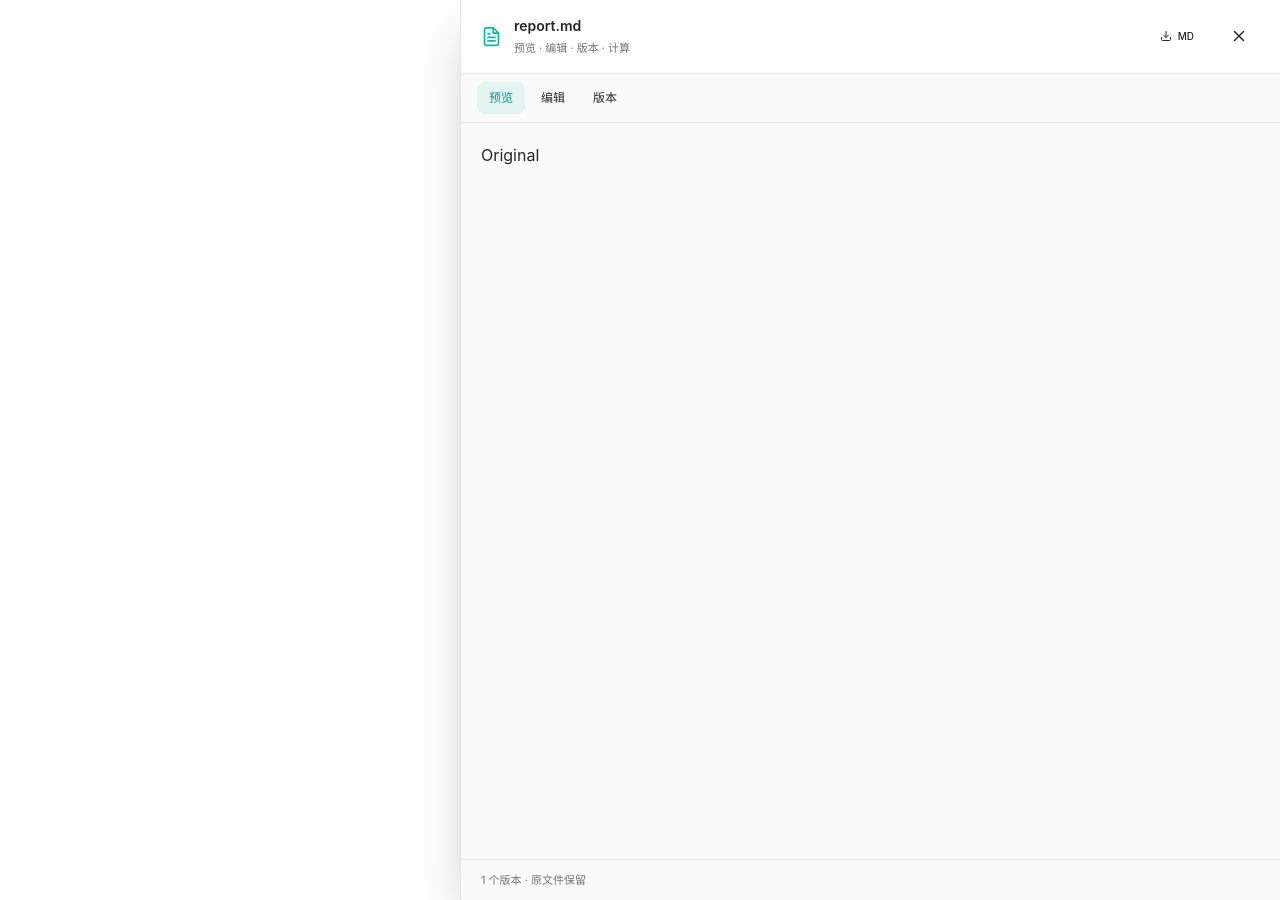
Test: document workbench UI › opens from attachment events, edits and saves a new version, then previews its body
Expected: the heading "Original" is shown, [481,144,539,164]
Click the button "编辑": click(553, 98) [529,82,577,114]
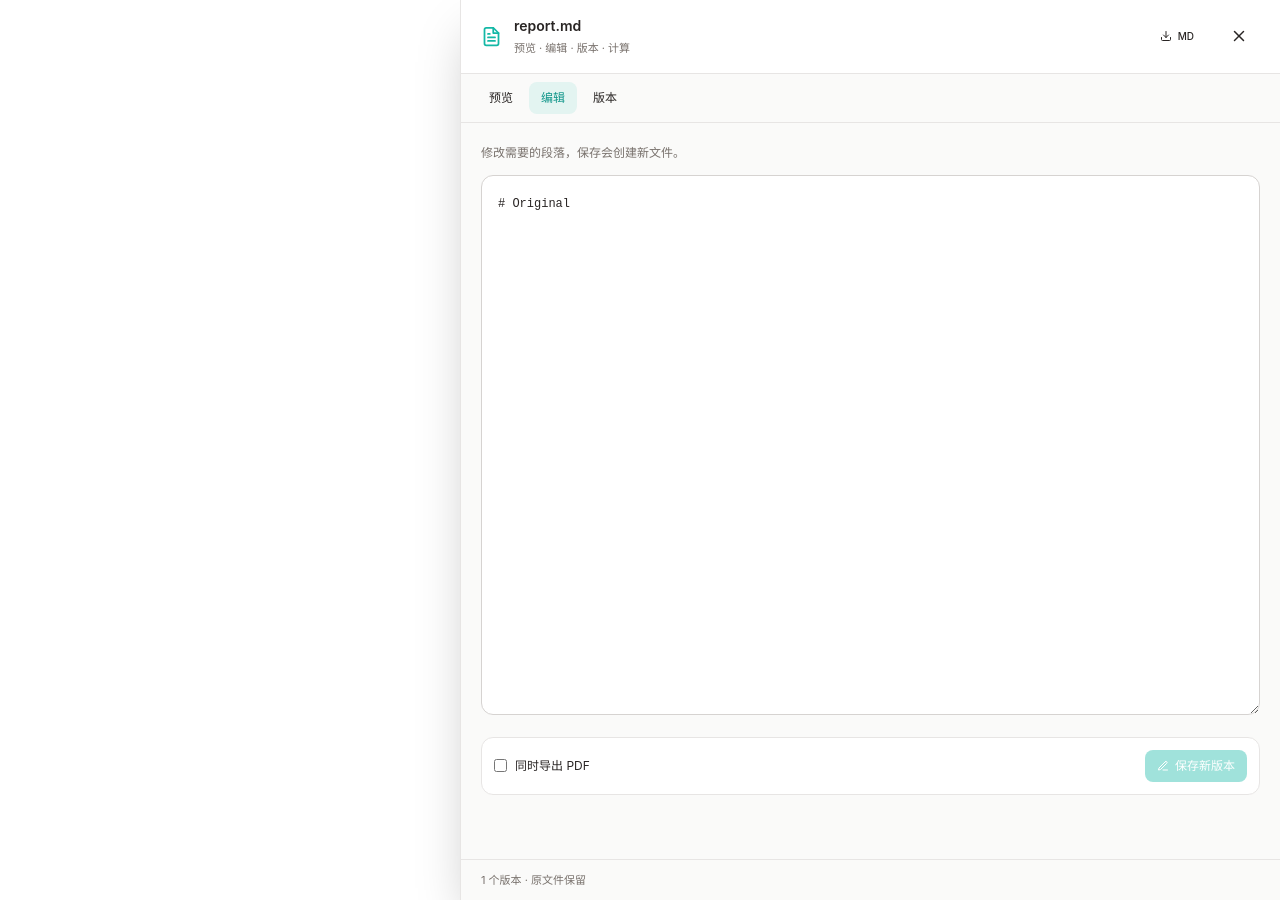
Replace the text in the text box named "文档正文" with "# Updated": (870, 444) [481,174,1260,714]
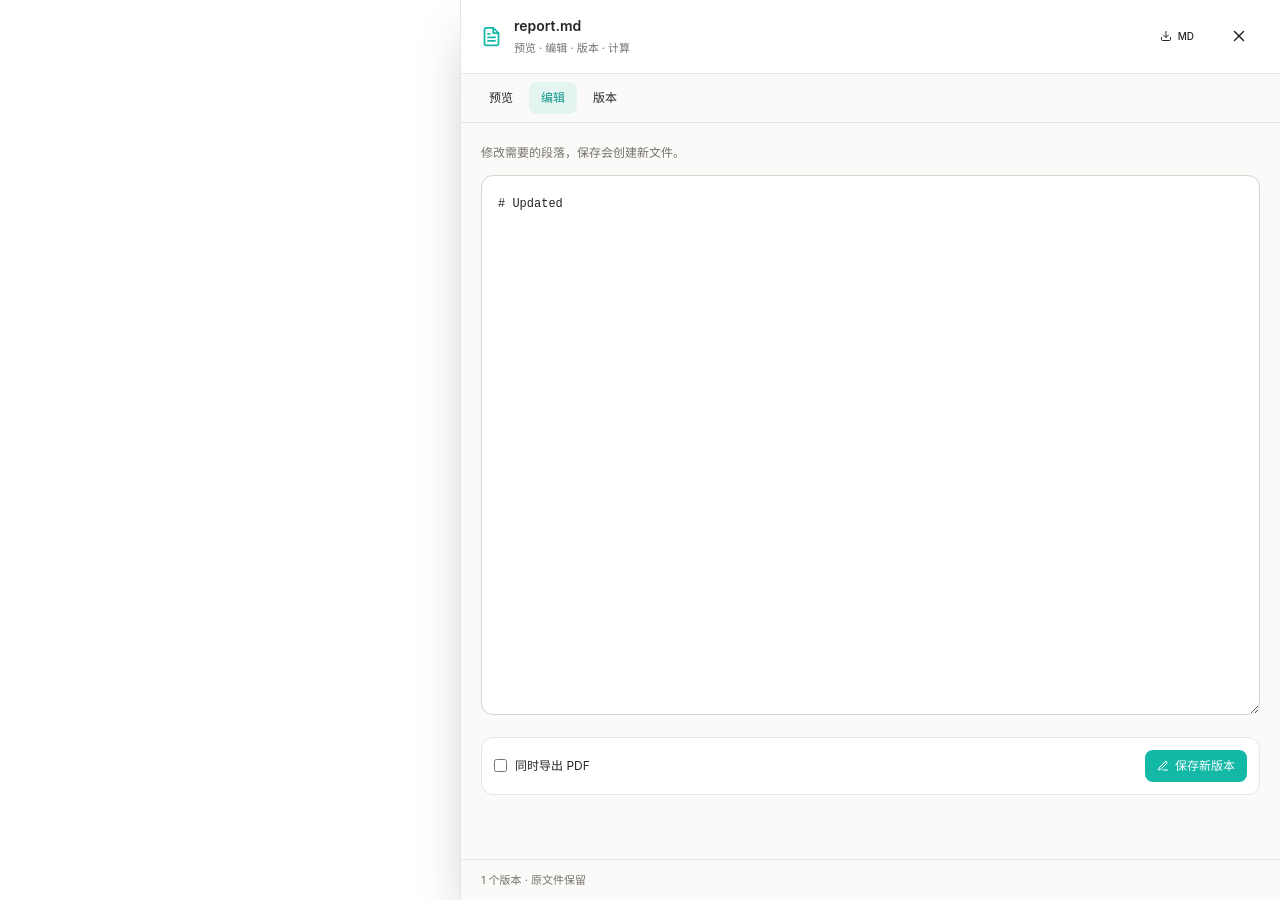
Click the button "保存新版本": click(1196, 766) [1145,750,1247,782]
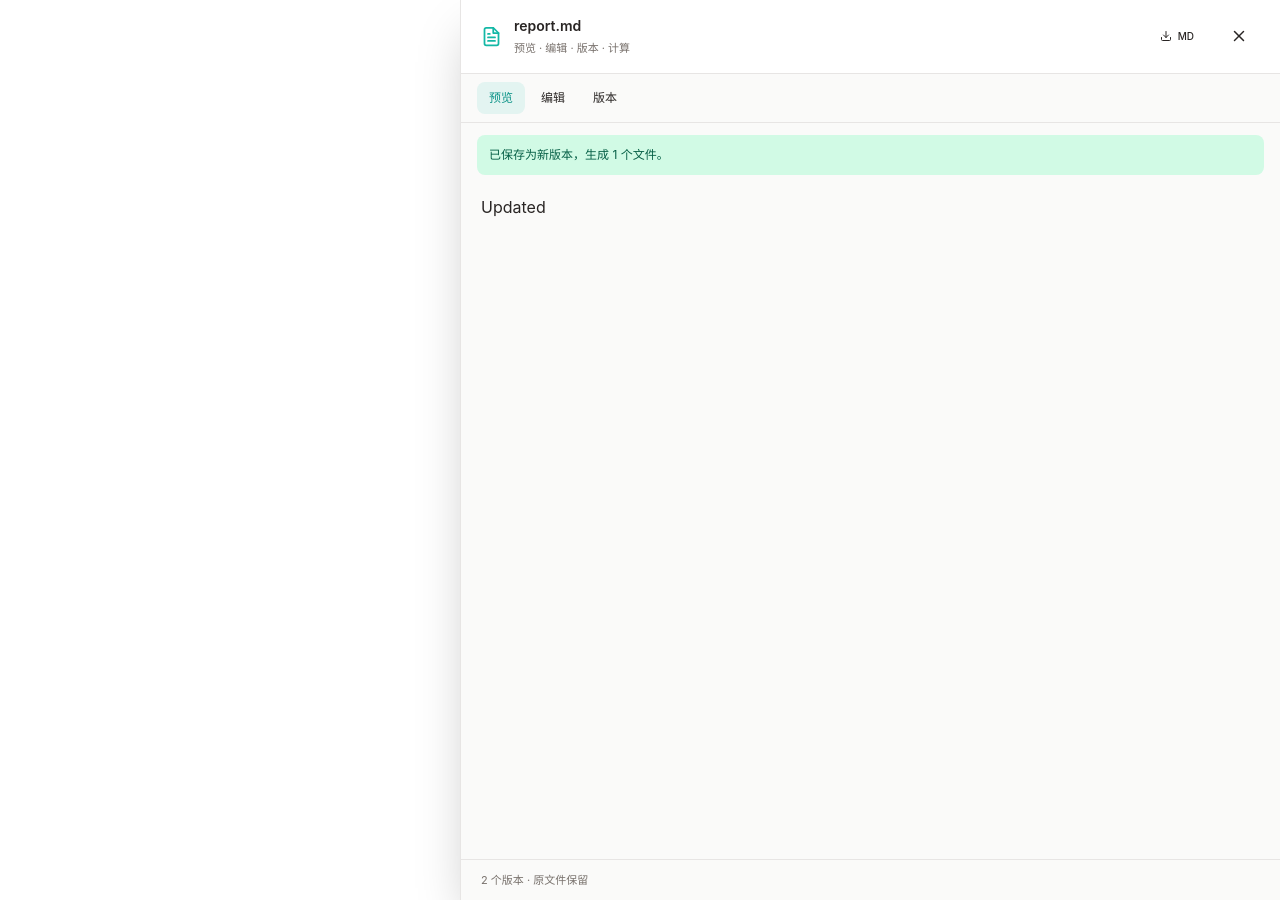
Now the heading "Updated" is shown, box [481,196,546,216]
